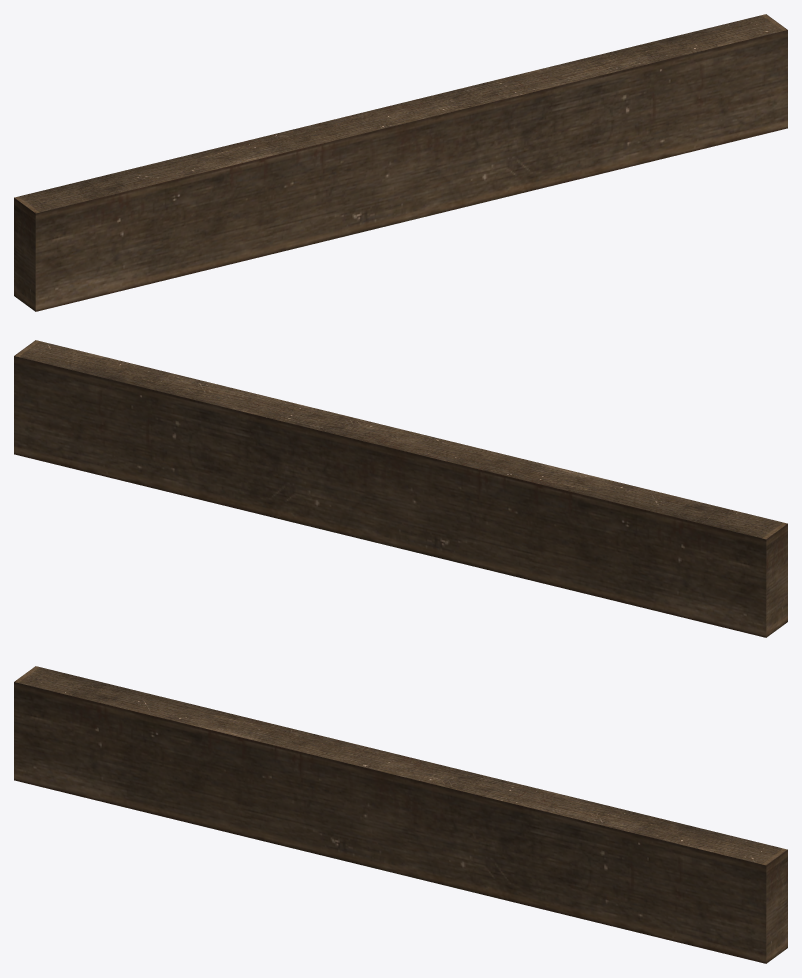
The model's file is FLSP_0.25x2_1.glb.
3 renders of one model, top to bottom at view 1: azimuth 30°, elevation 25°; view 2: azimuth 150°, elevation 25°; view 3: azimuth 330°, elevation 25°, orthographic.
Visible parts, largest first — view 1: FLSP_0.25x2_1; view 2: FLSP_0.25x2_1; view 3: FLSP_0.25x2_1.
Boxes of the visible parts, bbox=[...] form: FLSP_0.25x2_1: bbox=[14, 14, 787, 311]; FLSP_0.25x2_1: bbox=[14, 340, 787, 637]; FLSP_0.25x2_1: bbox=[14, 666, 787, 963].
Size of the model in its own units: 2 by 0.25 by 0.1001.
Materials: 1 (1 with a texture image).
